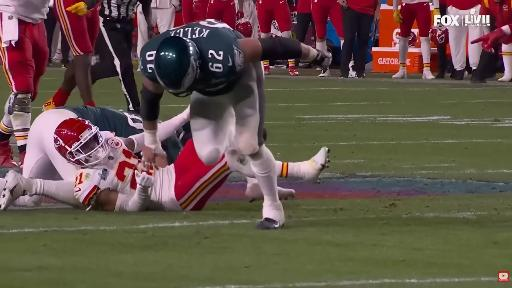Helmet: (54, 119, 109, 167), (155, 36, 199, 96), (430, 25, 448, 46), (235, 17, 253, 38), (408, 32, 417, 47)
Jersey: (140, 19, 243, 96), (75, 132, 174, 209), (57, 106, 143, 137), (0, 0, 52, 23)
Player: (140, 20, 331, 228), (0, 119, 253, 211), (23, 106, 142, 180), (0, 0, 49, 166), (43, 0, 99, 109), (393, 0, 434, 79), (311, 0, 344, 51), (256, 0, 291, 38), (207, 0, 244, 29), (236, 0, 258, 38), (182, 0, 209, 24)
